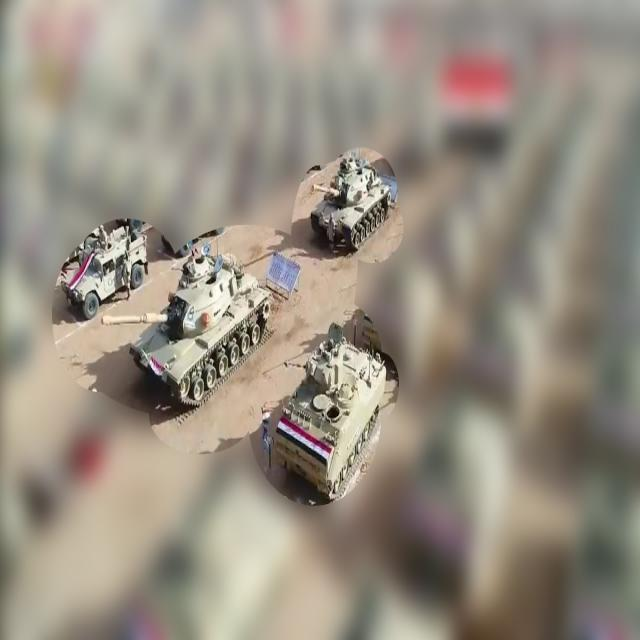tank: (96, 241, 276, 409), (271, 326, 385, 513), (308, 148, 392, 258)
